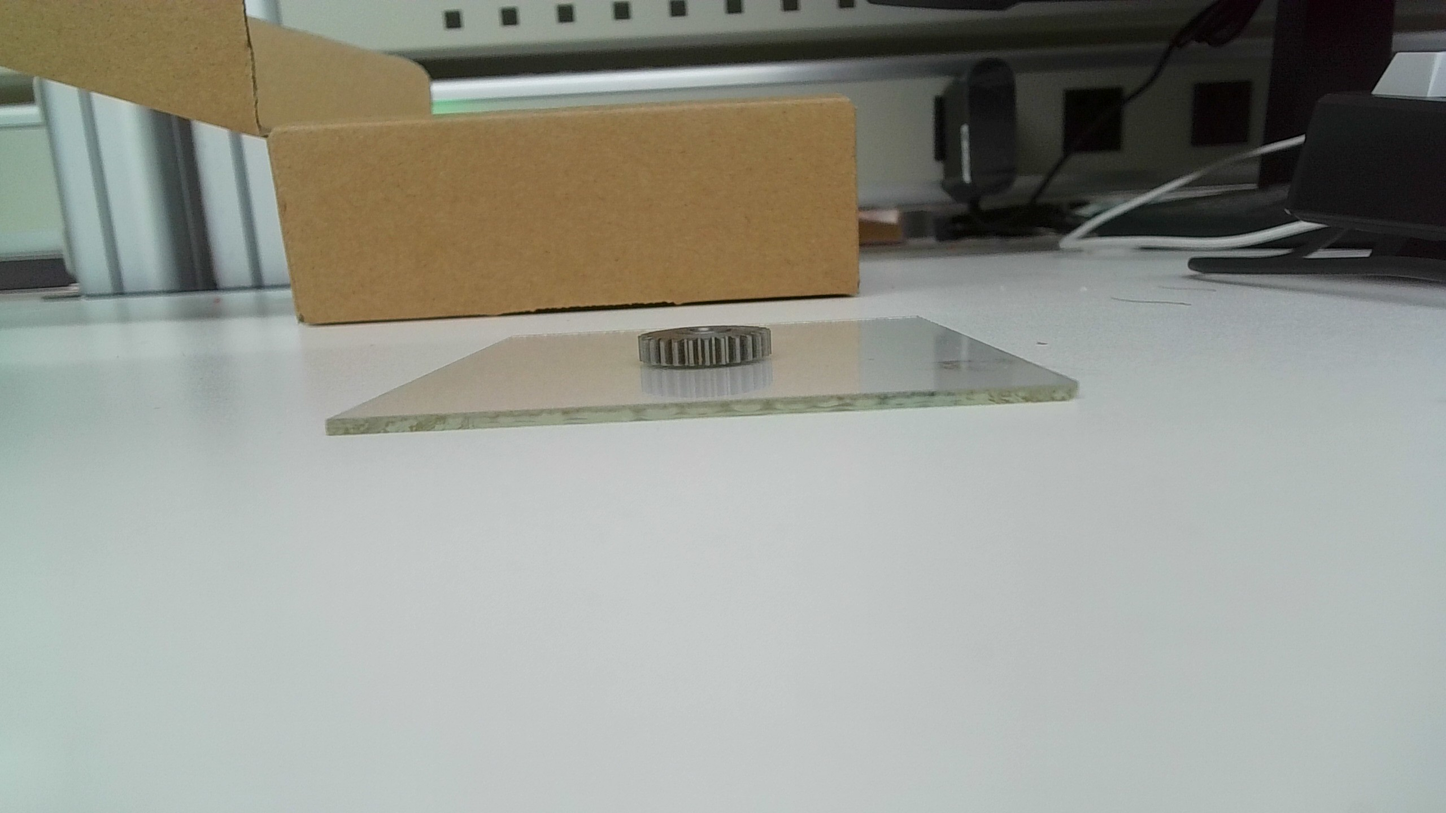gear: (636, 323, 775, 370)
